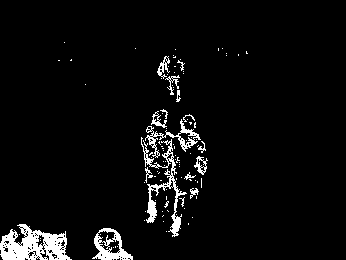person: (173, 114, 207, 237), (141, 109, 174, 224), (158, 48, 185, 103)
